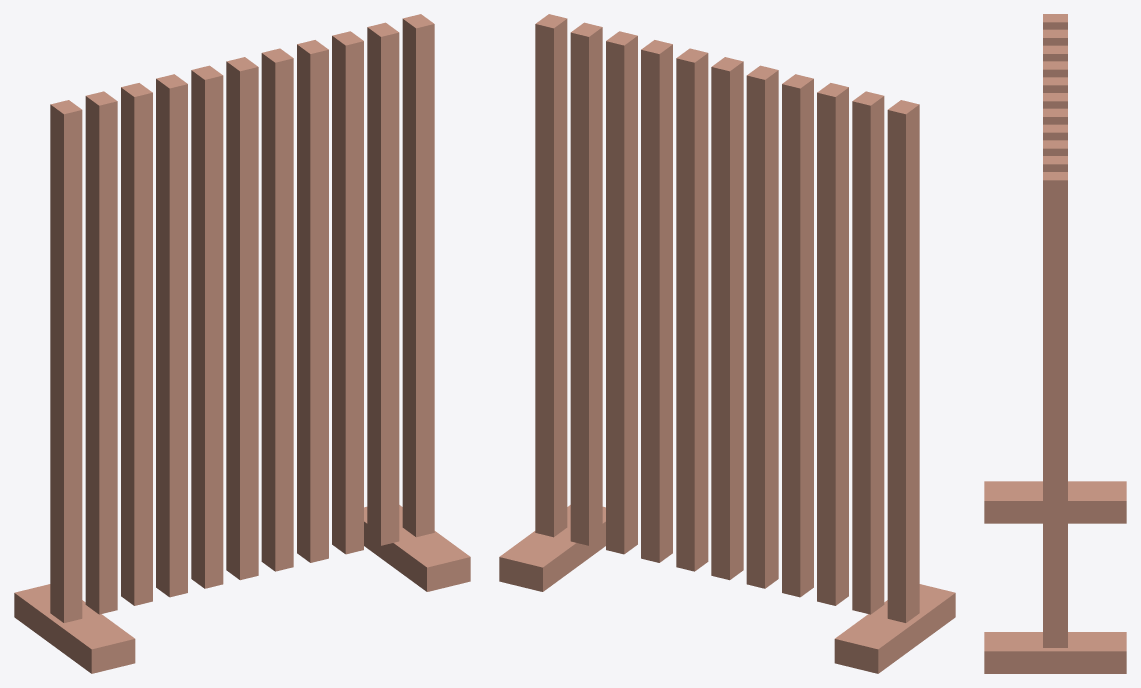
3 views of the same model, side by side, from view 1: azimuth 30°, elevation 25°; view 2: azimuth 150°, elevation 25°; view 3: azimuth 270°, elevation 25° (orthographic). The views are drawn at different scales.
Visible parts, largest first — view 1: Warm timber slat.006, Warm timber slat.005, Warm timber slat.001, Warm timber slat.004, Warm timber slat, Warm timber slat.010, Warm timber slat.009, Warm timber slat.003, Warm timber slat.007, Warm timber slat.008, Warm timber slat.002, Wood screen foot (+1 smaller); view 2: Warm timber slat.006, Warm timber slat.005, Warm timber slat.001, Warm timber slat.004, Warm timber slat, Warm timber slat.010, Warm timber slat.009, Warm timber slat.003, Warm timber slat.007, Warm timber slat.008, Warm timber slat.002, Wood screen foot (+1 smaller); view 3: Warm timber slat.010, Wood screen foot.001, Wood screen foot, Warm timber slat.001, Warm timber slat.002, Warm timber slat.003, Warm timber slat.006, Warm timber slat.007, Warm timber slat, Warm timber slat.004, Warm timber slat.005, Warm timber slat.008 (+1 smaller).
Part boxes in pixels (left/top/right/bottom): Warm timber slat.006: left=261, top=48, right=293, bottom=571; Warm timber slat.005: left=226, top=57, right=258, bottom=580; Warm timber slat.001: left=85, top=91, right=117, bottom=614; Warm timber slat.004: left=191, top=65, right=223, bottom=588; Warm timber slat: left=50, top=100, right=82, bottom=622; Warm timber slat.010: left=402, top=14, right=434, bottom=537; Warm timber slat.009: left=367, top=22, right=399, bottom=545; Warm timber slat.003: left=156, top=74, right=187, bottom=597; Warm timber slat.007: left=297, top=40, right=328, bottom=562; Warm timber slat.008: left=332, top=31, right=363, bottom=554; Warm timber slat.002: left=121, top=83, right=152, bottom=605; Wood screen foot: left=14, top=584, right=135, bottom=673; Warm timber slat.006: left=676, top=48, right=708, bottom=571; Warm timber slat.005: left=711, top=57, right=743, bottom=580; Warm timber slat.001: left=852, top=91, right=884, bottom=614; Warm timber slat.004: left=746, top=65, right=778, bottom=588; Warm timber slat: left=887, top=100, right=919, bottom=622; Warm timber slat.010: left=535, top=14, right=567, bottom=537; Warm timber slat.009: left=570, top=22, right=602, bottom=545; Warm timber slat.003: left=782, top=74, right=813, bottom=597; Warm timber slat.007: left=641, top=40, right=672, bottom=562; Warm timber slat.008: left=606, top=31, right=637, bottom=554; Warm timber slat.002: left=817, top=83, right=848, bottom=605; Wood screen foot: left=834, top=584, right=955, bottom=673; Warm timber slat.010: left=1043, top=172, right=1067, bottom=647; Wood screen foot.001: left=984, top=632, right=1126, bottom=673; Wood screen foot: left=984, top=481, right=1126, bottom=523; Warm timber slat.001: left=1043, top=29, right=1067, bottom=45; Warm timber slat.002: left=1043, top=45, right=1067, bottom=61; Warm timber slat.003: left=1043, top=61, right=1067, bottom=77; Warm timber slat.006: left=1043, top=108, right=1067, bottom=124; Warm timber slat.007: left=1043, top=124, right=1067, bottom=140; Warm timber slat: left=1043, top=14, right=1067, bottom=29; Warm timber slat.004: left=1043, top=77, right=1067, bottom=92; Warm timber slat.005: left=1043, top=93, right=1067, bottom=108; Warm timber slat.008: left=1043, top=140, right=1067, bottom=155.
Bounding box in the file's own units: 113 × 153 × 40.
